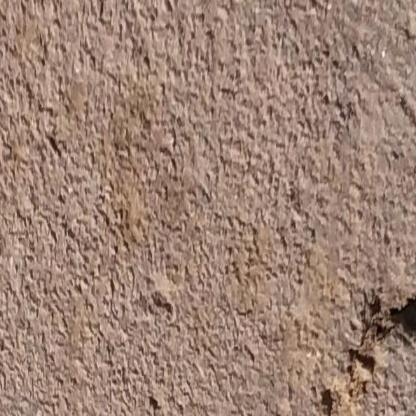Cracks: (319, 292, 416, 416)
